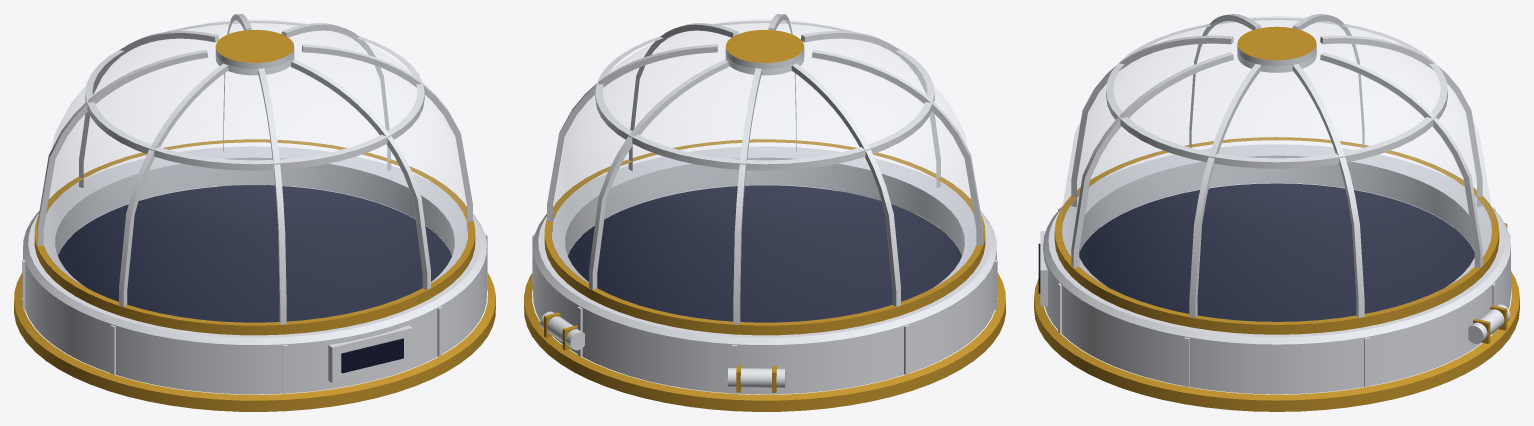
The model's file is garden.glb.
3 renders of one model, left to right at view 1: azimuth 30°, elevation 25°; view 2: azimuth 150°, elevation 25°; view 3: azimuth 270°, elevation 25°, orthographic.
Parts seen in each view (by area): view 1: garden_base, garden_dome; view 2: garden_base, garden_dome; view 3: garden_base, garden_dome.
Part boxes in pixels (x1,y1,x2,y2): garden_base: (14,14,495,411); garden_dome: (44,19,468,322); garden_base: (524,14,1005,411); garden_dome: (551,19,975,322); garden_base: (1034,14,1519,411); garden_dome: (1061,16,1492,321).
Bounding box in the file's own units: 2.7 × 1.63 × 2.7.
